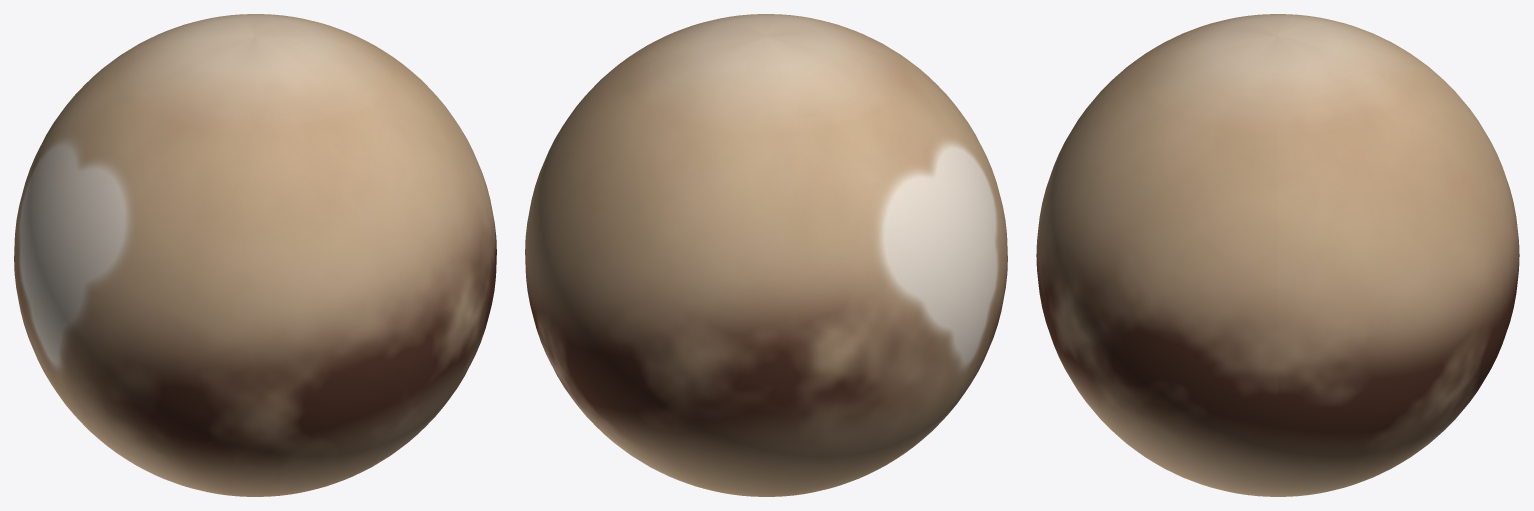
File: planet_pluto.glb
3 views of the same model, side by side, from view 1: azimuth 30°, elevation 25°; view 2: azimuth 150°, elevation 25°; view 3: azimuth 270°, elevation 25° (orthographic).
Visible parts, largest first — view 1: planet_pluto; view 2: planet_pluto; view 3: planet_pluto.
Boxes of the visible parts, <box> form: planet_pluto: <box>14,14,496,496</box>; planet_pluto: <box>525,14,1007,496</box>; planet_pluto: <box>1036,14,1519,496</box>.
Bounding box in the file's own units: 1 × 1 × 1.
1 material, 1 textured.
